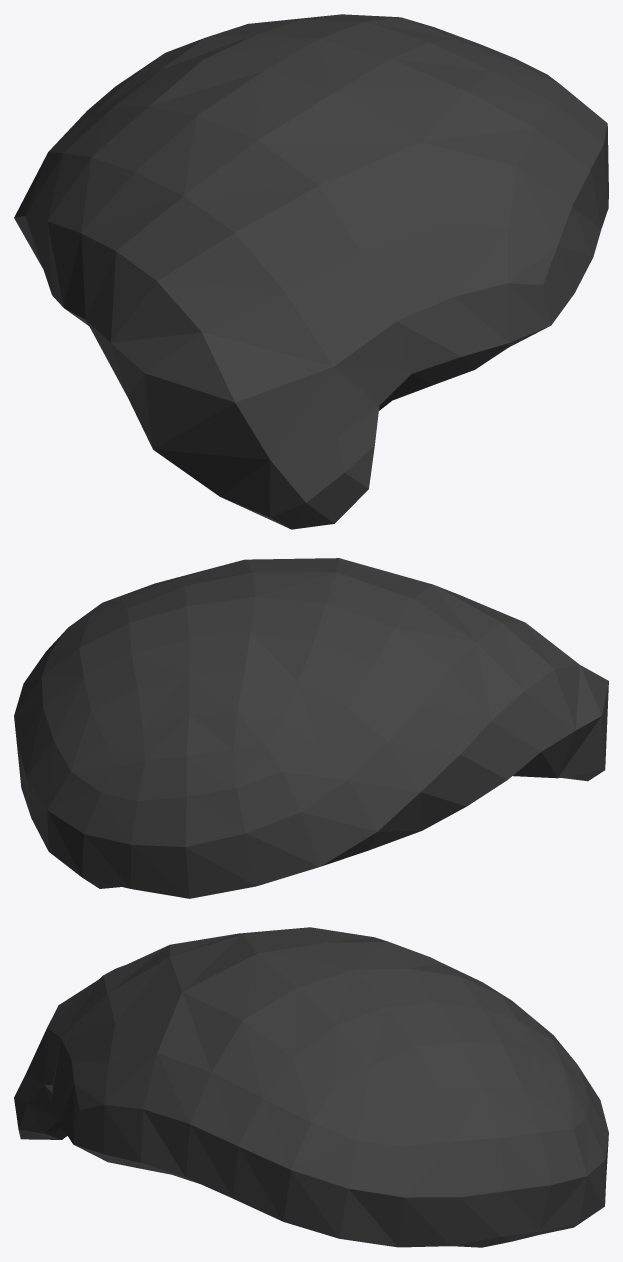
File: LFL_humerus2.glb
3 views of the same model, one above another, from view 1: azimuth 30°, elevation 25°; view 2: azimuth 150°, elevation 25°; view 3: azimuth 270°, elevation 25° (orthographic). The views are drawn at different scales.
Parts seen in each view (by area): view 1: LFL_humerus2; view 2: LFL_humerus2; view 3: LFL_humerus2.
Boxes of the visible parts, left/top/right/bottom form: LFL_humerus2: left=14, top=14, right=608, bottom=529; LFL_humerus2: left=14, top=558, right=608, bottom=898; LFL_humerus2: left=14, top=927, right=608, bottom=1247.
Size of the model in its own units: 11.8 by 6.06 by 12.9.
Materials: 1 (1 with a texture image).
